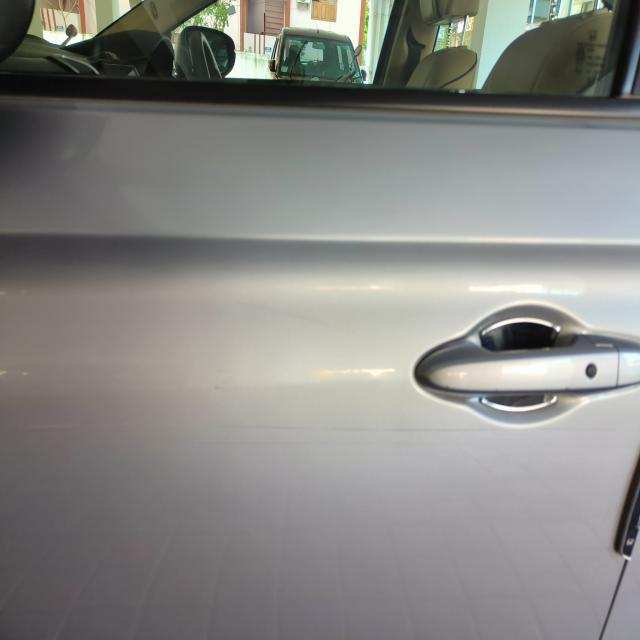scratch: (185, 415, 509, 445)
